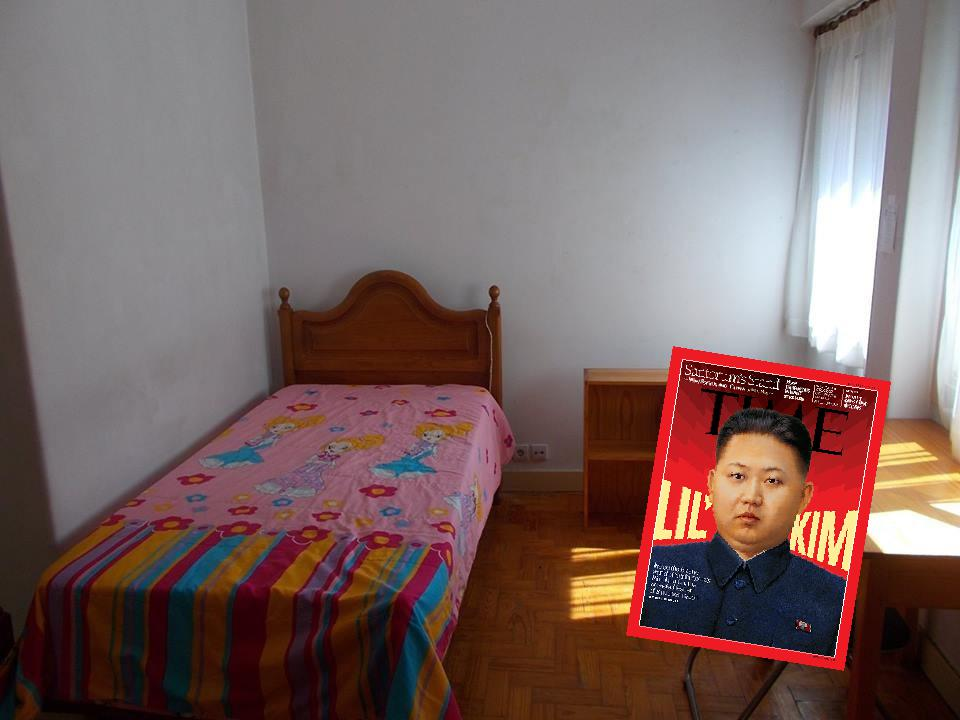times: (624, 345, 894, 666)
